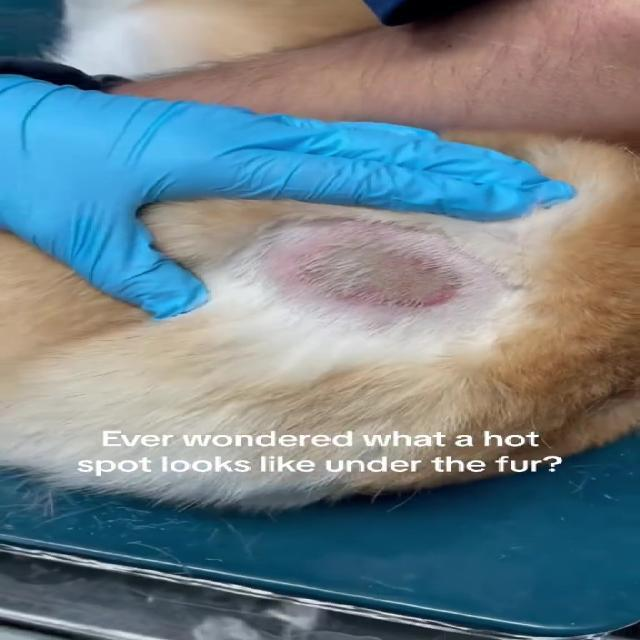hac lao: (248, 217, 497, 345)
